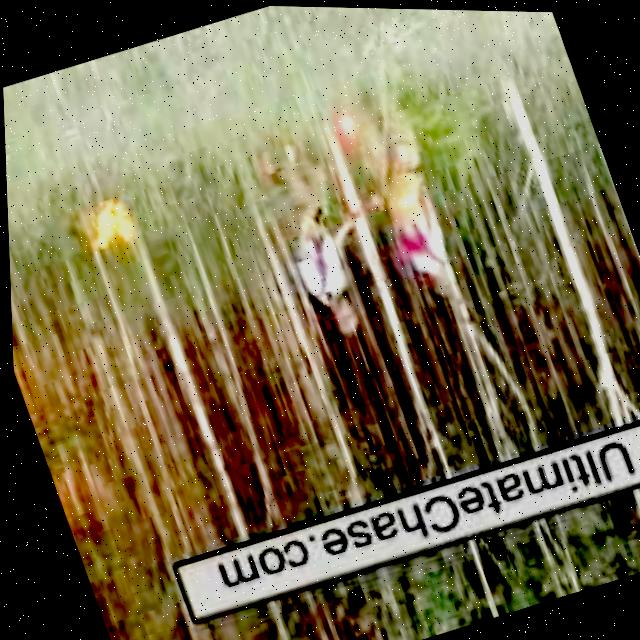Fire: (72, 192, 136, 252), (326, 106, 363, 145)
